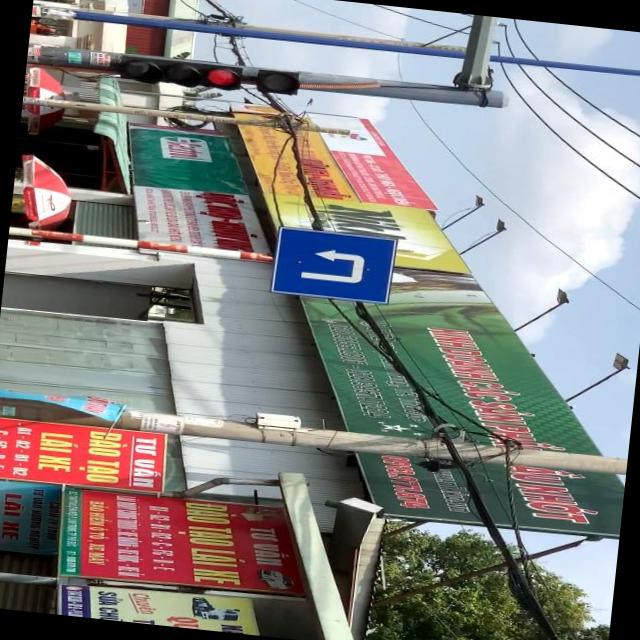I-409: (270, 226, 398, 302)
